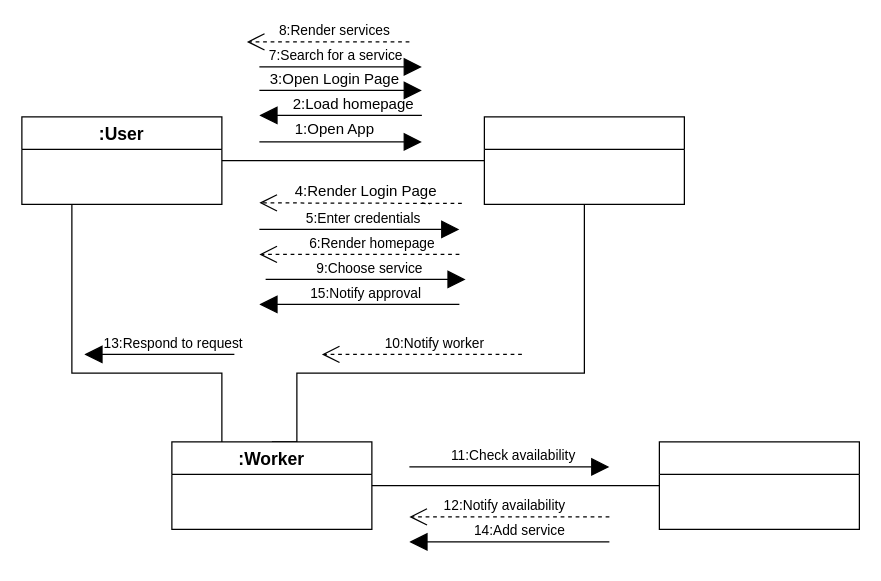
Image size: 881x581. Some labels were removed from this diagram. The shapes that lost their labels are listed below. From the top down, each one's box as (x1, y1, x2, y2) in pixels, then its label:
(483, 116, 684, 204): :App
(658, 441, 859, 529): :Calendar
